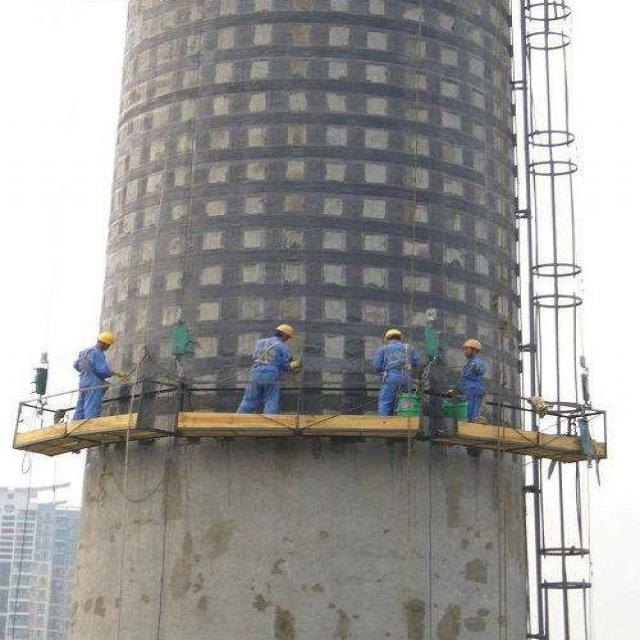person: (252, 318, 297, 418), (73, 331, 119, 425), (375, 328, 420, 418), (457, 335, 488, 422)
